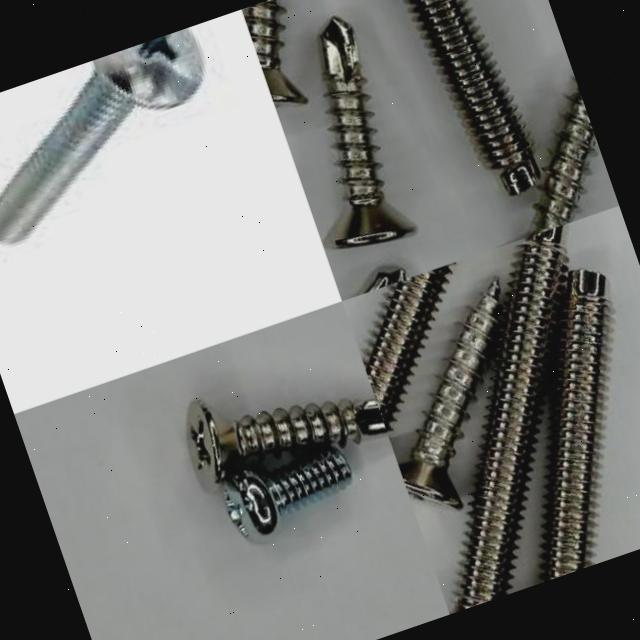Screw: (449, 225, 566, 614), (0, 28, 204, 240), (406, 0, 539, 195), (398, 279, 499, 508), (319, 17, 416, 249), (541, 268, 608, 582), (186, 399, 370, 490), (364, 263, 451, 430), (222, 443, 353, 543), (528, 85, 597, 236), (243, 0, 307, 105)
